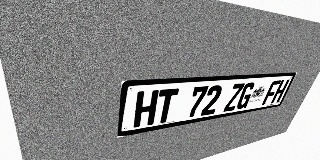2: (200, 85, 224, 116)
7: (185, 86, 209, 119)
F: (261, 80, 281, 105)
G: (235, 82, 256, 110)
H: (133, 90, 159, 128), (270, 79, 290, 104)
T: (154, 88, 179, 124)
Z: (223, 83, 245, 112)
